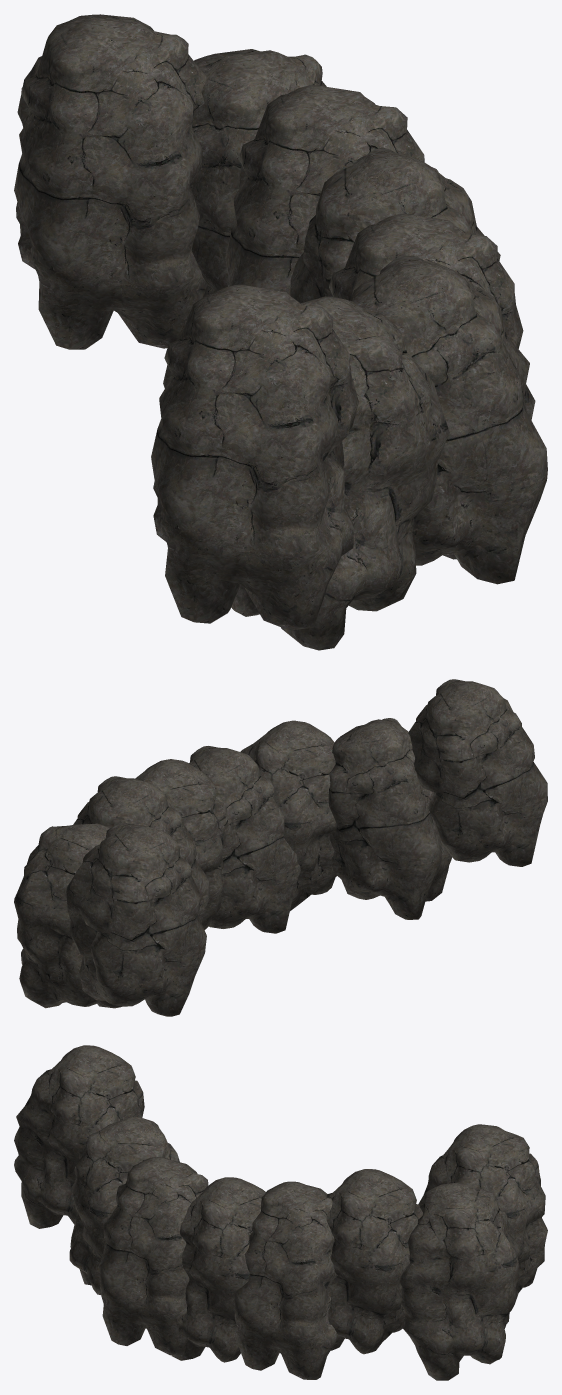
The model's file is TwinPeakRocksShape16.dae.
3 renders of one model, top to bottom at view 1: azimuth 30°, elevation 25°; view 2: azimuth 150°, elevation 25°; view 3: azimuth 270°, elevation 25°, orthographic. The views are drawn at different scales.
Visible parts, largest first — view 1: TwinPeakRocks16; view 2: TwinPeakRocks16; view 3: TwinPeakRocks16.
Part boxes in pixels (bbox=[...]): TwinPeakRocks16: bbox=[14, 14, 547, 650]; TwinPeakRocks16: bbox=[14, 679, 547, 1016]; TwinPeakRocks16: bbox=[14, 1045, 547, 1380].
Bounding box in the file's own units: 111 × 78.35 × 167.
